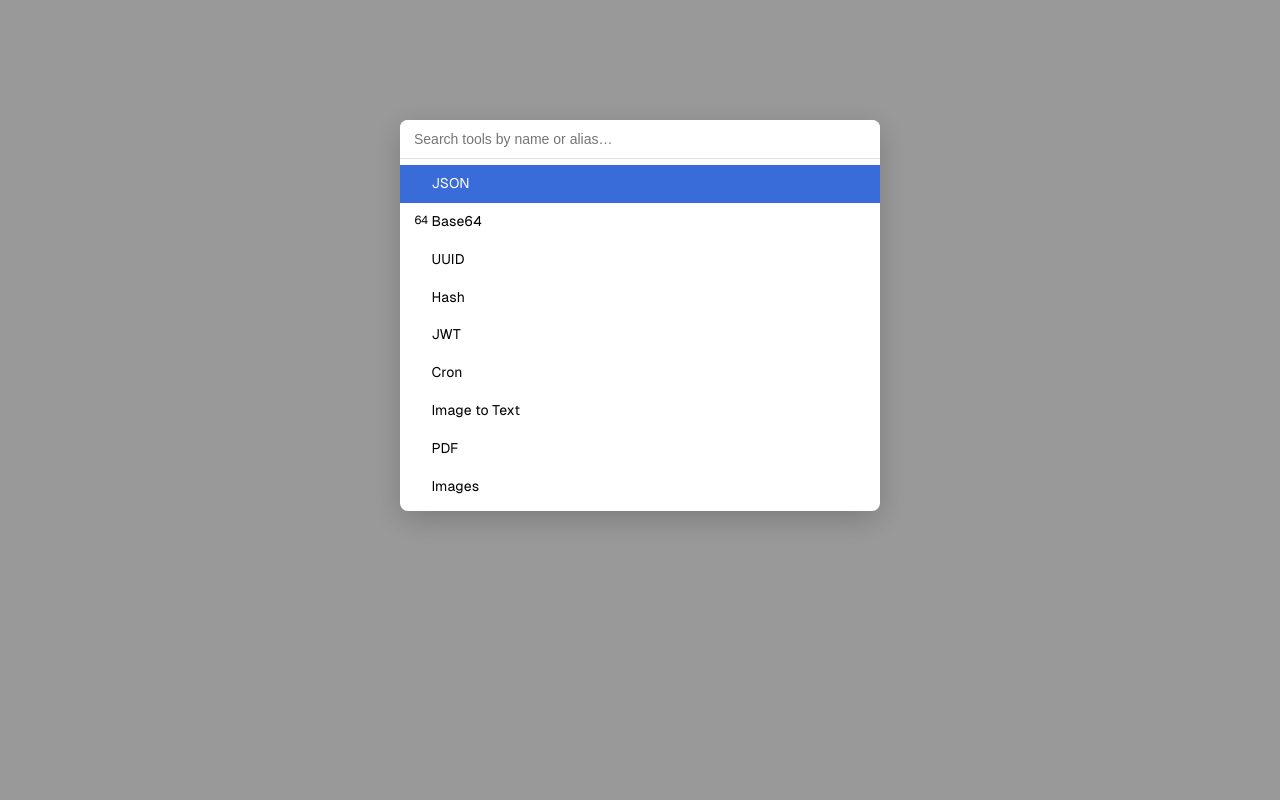
it: CommandPalette › shows results matching the query, ranked like paletteSearch (AC2)
The width and height of the screenshot is (1280, 800).
In the dropdown with placeholder "Search tools by name or alias…": coordinates (640, 140) x1=400 y1=120 x2=880 y2=159, type "base"
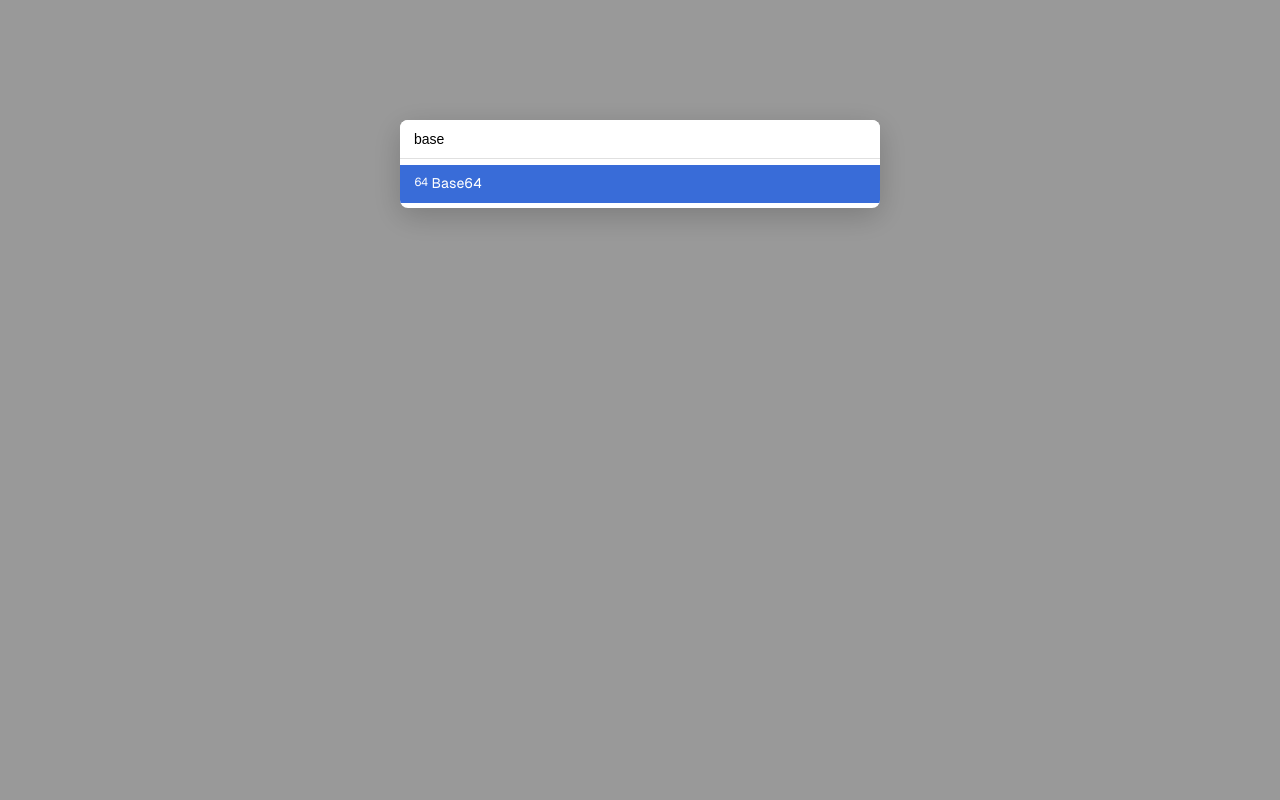
Expected: the option "64 Base64" is shown, x1=400 y1=165 x2=880 y2=203
Now the number of options is 1, box x1=400 y1=165 x2=880 y2=203
